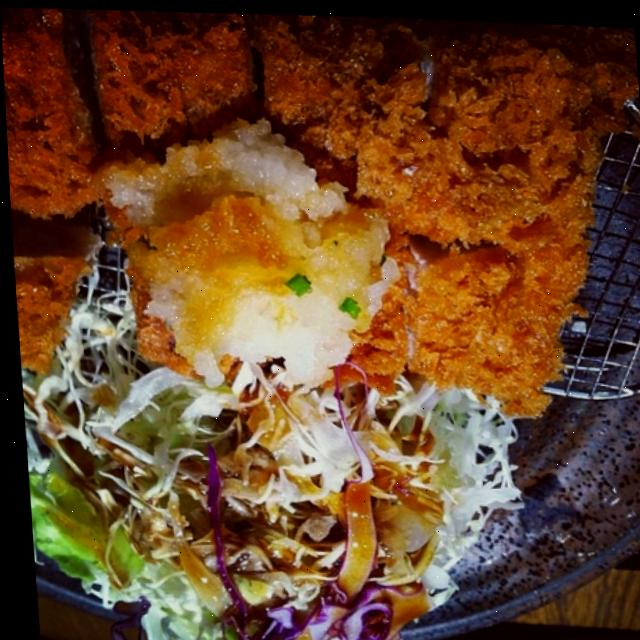牛肉菜式: (0, 11, 640, 462)
